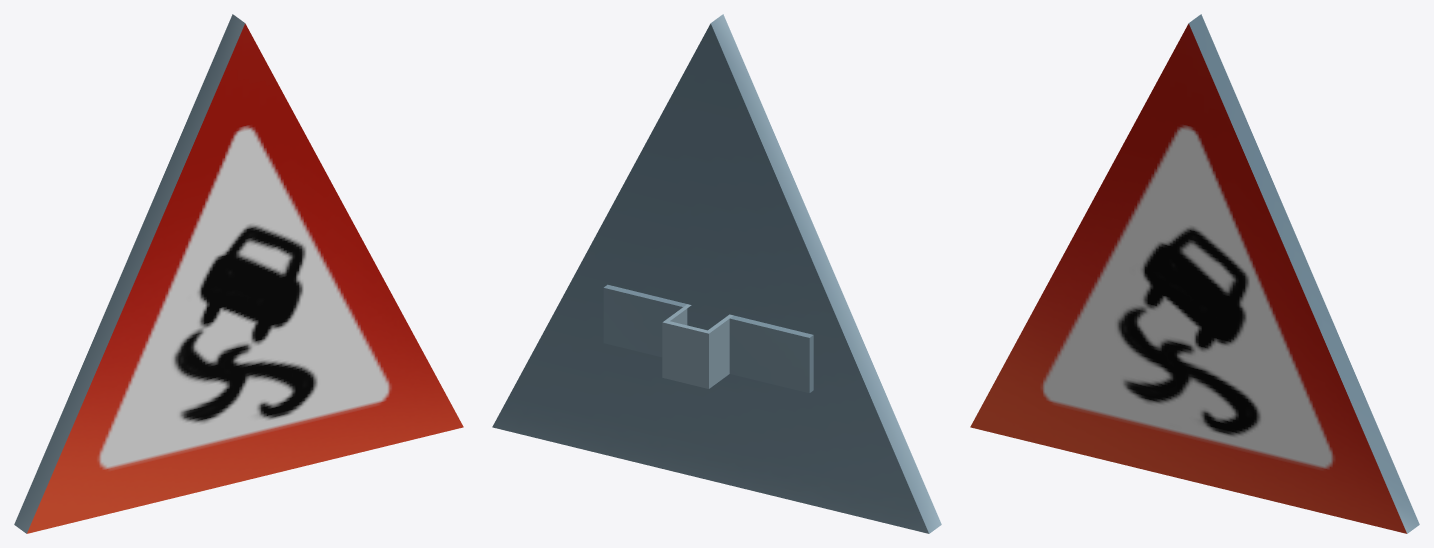
File: Sign12Austrian.fbx
3 views of the same model, side by side, from view 1: azimuth 30°, elevation 25°; view 2: azimuth 150°, elevation 25°; view 3: azimuth 330°, elevation 25° (orthographic).
Visible parts, largest first — view 1: Sign12Austrian; view 2: Sign12Austrian; view 3: Sign12Austrian.
Boxes of the visible parts, bbox=[...] form: Sign12Austrian: bbox=[14, 14, 463, 533]; Sign12Austrian: bbox=[492, 14, 941, 533]; Sign12Austrian: bbox=[970, 14, 1419, 533].
Bounding box in the file's own units: 1 × 1 × 0.1489.
